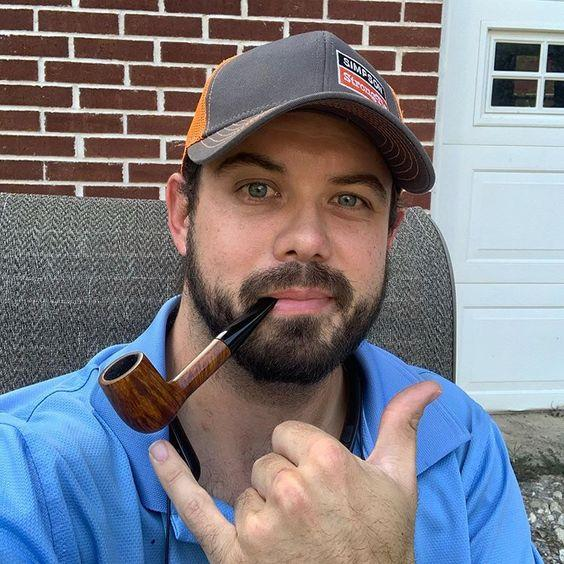trubka: (100, 295, 280, 433)
